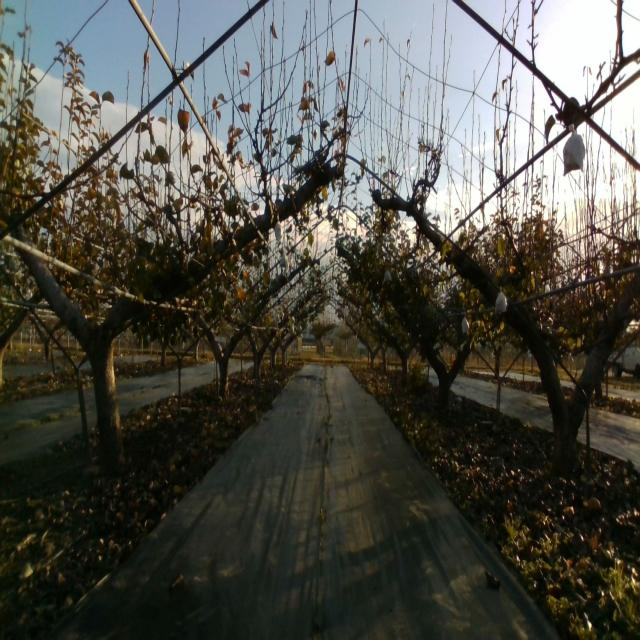pearbags: (562, 124, 586, 175), (495, 286, 507, 314)
